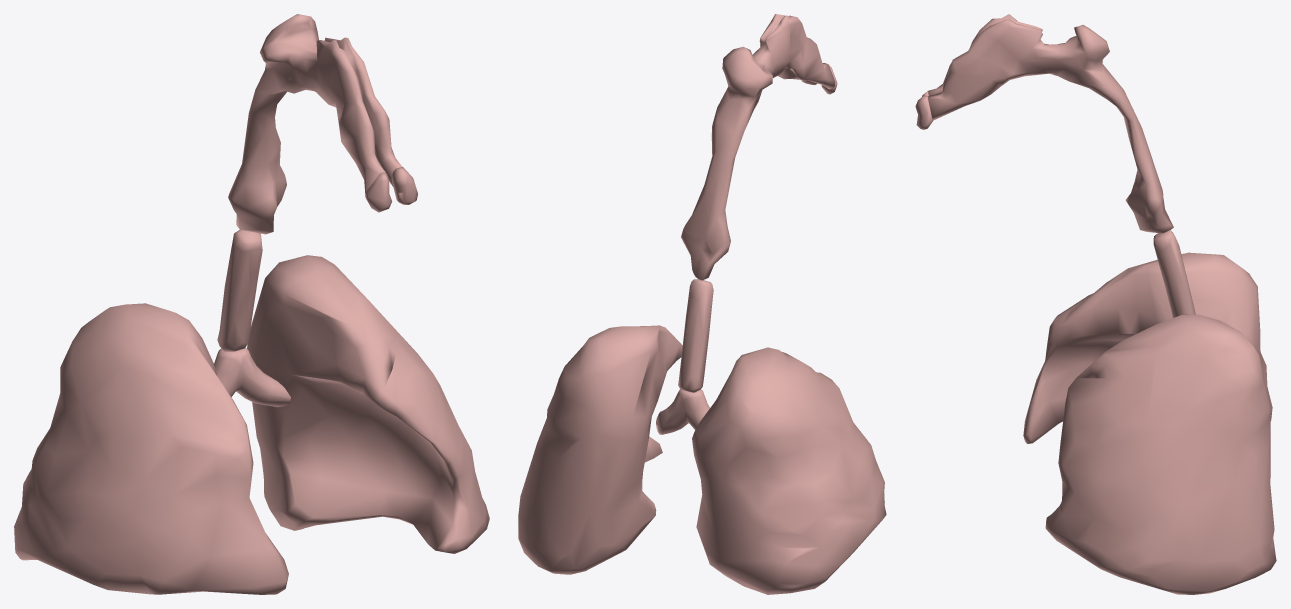
File: pediatric_neonate_male.respiratory.LOD2.glb
The picture shows the model from 3 angles, left to right: view 1: azimuth 30°, elevation 25°; view 2: azimuth 150°, elevation 25°; view 3: azimuth 270°, elevation 25°; orthographic projection. The views are drawn at different scales.
Parts seen in each view (by area): view 1: PEDIATRIC.NEONATE.MALE.RESPIRATORY.LUNG.R, PEDIATRIC.NEONATE.MALE.RESPIRATORY.LUNG.L, PEDIATRIC.NEONATE.MALE.RESPIRATORY.ET2, PEDIATRIC.NEONATE.MALE.RESPIRATORY.TRACHEA, PEDIATRIC.NEONATE.MALE.RESPIRATORY.BB1, PEDIATRIC.NEONATE.MALE.RESPIRATORY.ET1; view 2: PEDIATRIC.NEONATE.MALE.RESPIRATORY.LUNG.R, PEDIATRIC.NEONATE.MALE.RESPIRATORY.LUNG.L, PEDIATRIC.NEONATE.MALE.RESPIRATORY.ET2, PEDIATRIC.NEONATE.MALE.RESPIRATORY.TRACHEA, PEDIATRIC.NEONATE.MALE.RESPIRATORY.BB1; view 3: PEDIATRIC.NEONATE.MALE.RESPIRATORY.LUNG.L, PEDIATRIC.NEONATE.MALE.RESPIRATORY.LUNG.R, PEDIATRIC.NEONATE.MALE.RESPIRATORY.ET2, PEDIATRIC.NEONATE.MALE.RESPIRATORY.TRACHEA.
Boxes of the visible parts, box(x1,y1,x2,y2) form: PEDIATRIC.NEONATE.MALE.RESPIRATORY.LUNG.R: box(14, 303, 288, 594); PEDIATRIC.NEONATE.MALE.RESPIRATORY.LUNG.L: box(247, 255, 489, 553); PEDIATRIC.NEONATE.MALE.RESPIRATORY.ET2: box(228, 14, 402, 234); PEDIATRIC.NEONATE.MALE.RESPIRATORY.TRACHEA: box(217, 229, 262, 351); PEDIATRIC.NEONATE.MALE.RESPIRATORY.BB1: box(214, 348, 290, 407); PEDIATRIC.NEONATE.MALE.RESPIRATORY.ET1: box(366, 167, 417, 212); PEDIATRIC.NEONATE.MALE.RESPIRATORY.LUNG.R: box(692, 347, 886, 594); PEDIATRIC.NEONATE.MALE.RESPIRATORY.LUNG.L: box(518, 325, 682, 574); PEDIATRIC.NEONATE.MALE.RESPIRATORY.ET2: box(681, 14, 835, 280); PEDIATRIC.NEONATE.MALE.RESPIRATORY.TRACHEA: box(678, 279, 713, 392); PEDIATRIC.NEONATE.MALE.RESPIRATORY.BB1: box(656, 389, 709, 434); PEDIATRIC.NEONATE.MALE.RESPIRATORY.LUNG.L: box(1045, 314, 1276, 594); PEDIATRIC.NEONATE.MALE.RESPIRATORY.LUNG.R: box(1023, 252, 1272, 443); PEDIATRIC.NEONATE.MALE.RESPIRATORY.ET2: box(928, 14, 1173, 233); PEDIATRIC.NEONATE.MALE.RESPIRATORY.TRACHEA: box(1153, 230, 1195, 317).
Size of the model in its own units: 0.0956 by 0.1336 by 0.0875.
